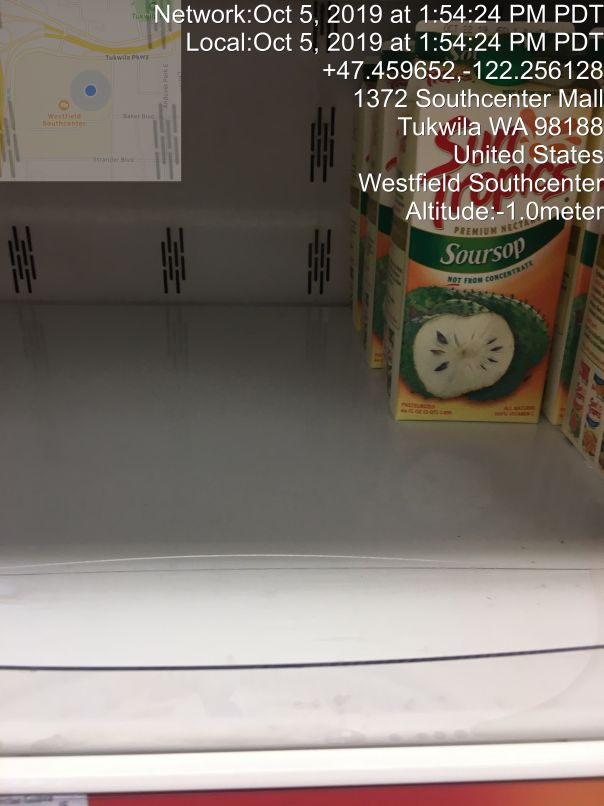Location: (351, 85, 604, 192)
Time: (152, 2, 604, 62)
Void: (12, 8, 381, 700)
